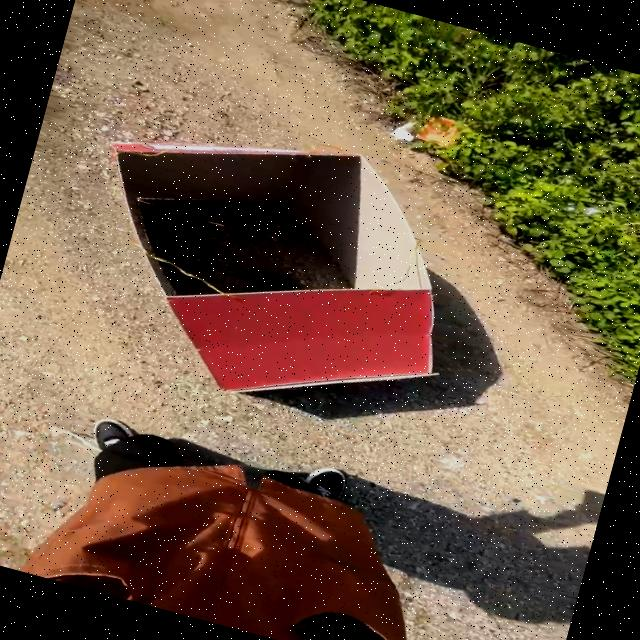red_car: (15, 66, 535, 464)
